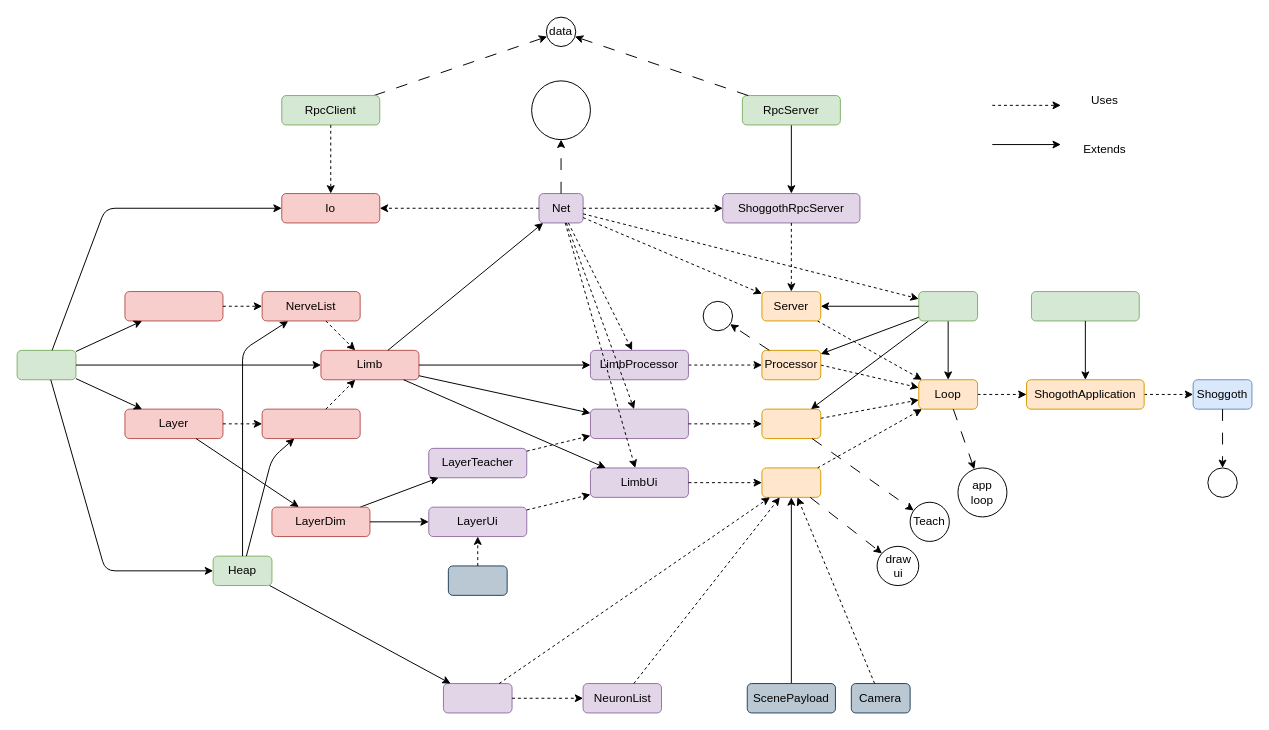
The diagram is 1269 pixels wide and 730 high, and some of its shapes have lost their labels. Here are the shapes that lost their labels. From the top down, the centre of each, then its label:
At point 560,110: "neural net math".
At point 173,306: "Nerve".
At point 717,315: "calc".
At point 948,306: "Payload".
At point 1084,306: "Application".
At point 46,364: "Result".
At point 310,423: "LayerList".
At point 638,423: "LimbTeacher".
At point 791,423: "Teacher".
At point 791,482: "Ui".
At point 1222,482: "start".
At point 477,580: "Object".
At point 477,698: "NeuronUi".
